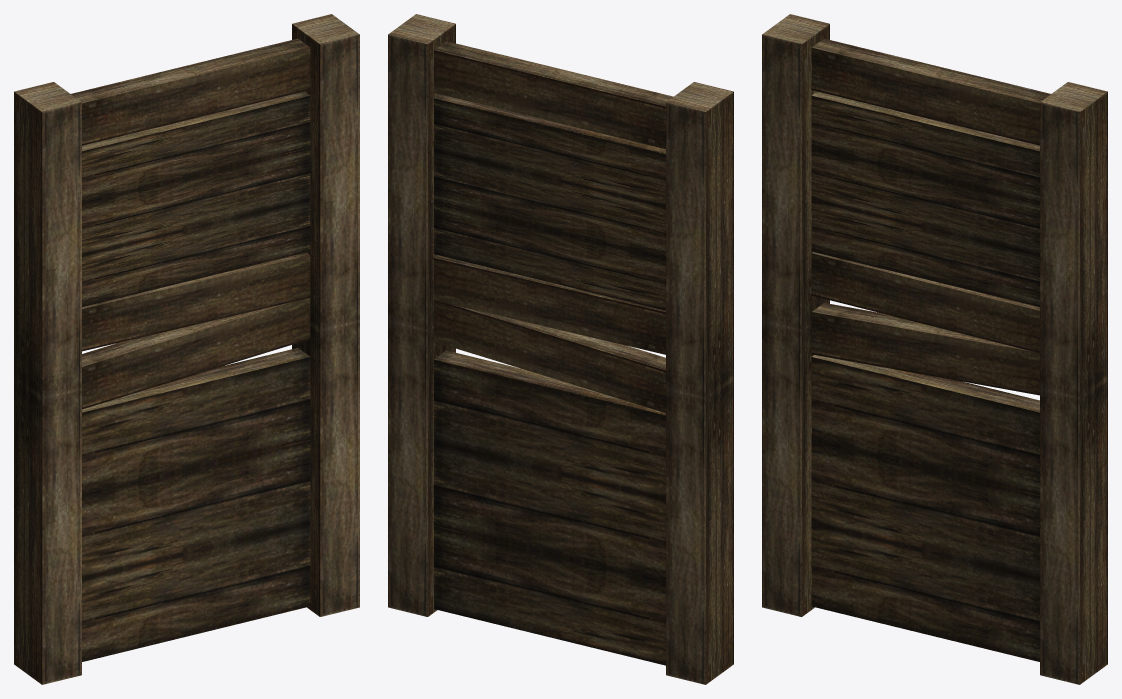
The model's file is general_obj_cliffgate_wall01.fbx.
3 views of the same model, side by side, from view 1: azimuth 30°, elevation 25°; view 2: azimuth 150°, elevation 25°; view 3: azimuth 330°, elevation 25° (orthographic).
Parts seen in each view (by area): view 1: Sphere01; view 2: Sphere01; view 3: Sphere01.
Boxes of the visible parts, x1,y1,x2,y2 form: Sphere01: [14, 14, 359, 684]; Sphere01: [388, 14, 733, 684]; Sphere01: [762, 14, 1107, 684].
Bounding box in the file's own units: 4.71 × 8.11 × 0.7212.
